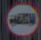Heavy Vehicles: (4, 1, 40, 36)
